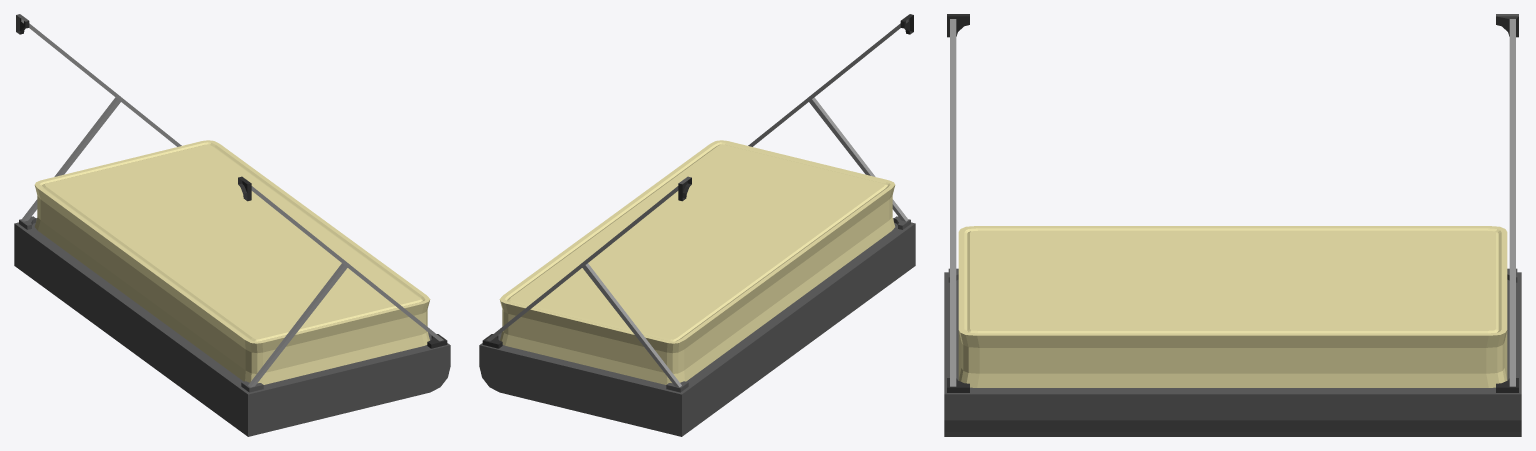
File: Bed.fbx
3 renders of one model, left to right at view 1: azimuth 30°, elevation 25°; view 2: azimuth 150°, elevation 25°; view 3: azimuth 270°, elevation 25°, orthographic. The views are drawn at different scales.
Visible parts, largest first — view 1: Cube; view 2: Cube; view 3: Cube.
Boxes of the visible parts, x1,y1,x2,y2 form: Cube: (14,14,450,436); Cube: (479,14,915,436); Cube: (944,14,1521,436).
Bounding box in the file's own units: 100 × 119 × 200.
